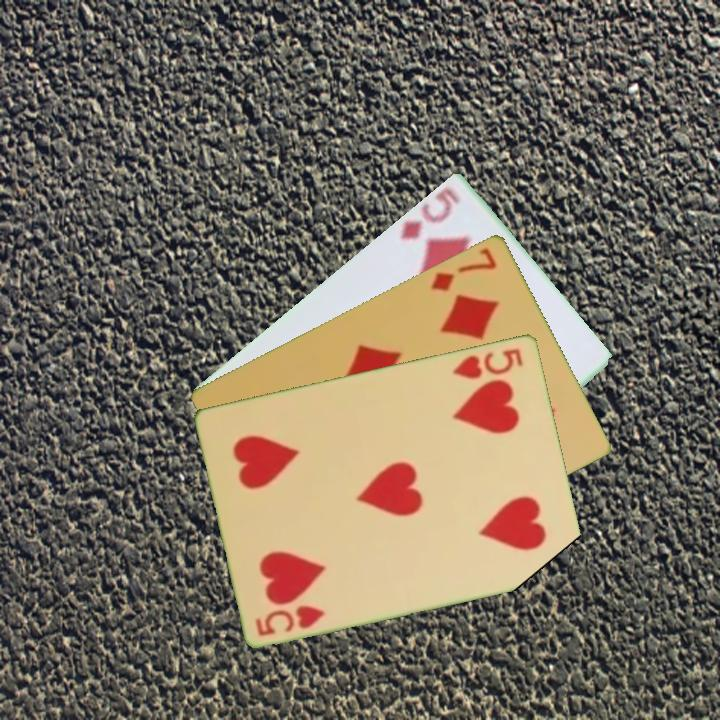5d: (396, 183, 463, 242)
5h: (449, 344, 526, 382), (252, 601, 328, 639)
7d: (427, 243, 500, 294)
